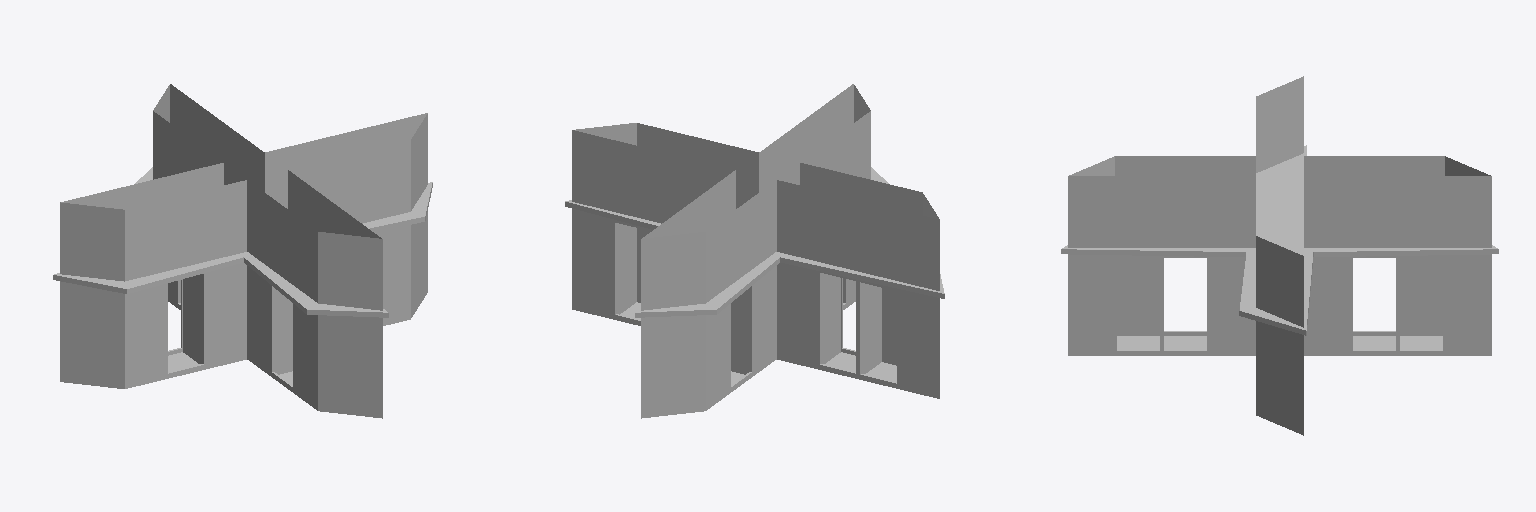
Rendered from TallTopBody.obj.
3 renders of one model, left to right at view 1: azimuth 30°, elevation 25°; view 2: azimuth 150°, elevation 25°; view 3: azimuth 270°, elevation 25°, orthographic.
Parts seen in each view (by area): view 1: TallTopBody KA_BLDG8_floor_20 KA_BLDG8_grp KA_BLDG8_Architect; view 2: TallTopBody KA_BLDG8_floor_20 KA_BLDG8_grp KA_BLDG8_Architect; view 3: TallTopBody KA_BLDG8_floor_20 KA_BLDG8_grp KA_BLDG8_Architect.
Boxes of the visible parts, box(x1,y1,x2,y2) form: TallTopBody KA_BLDG8_floor_20 KA_BLDG8_grp KA_BLDG8_Architect: box(53, 84, 432, 418); TallTopBody KA_BLDG8_floor_20 KA_BLDG8_grp KA_BLDG8_Architect: box(565, 84, 944, 418); TallTopBody KA_BLDG8_floor_20 KA_BLDG8_grp KA_BLDG8_Architect: box(1061, 76, 1498, 435).
Bounding box in the file's own units: 1737 × 785 × 1737.